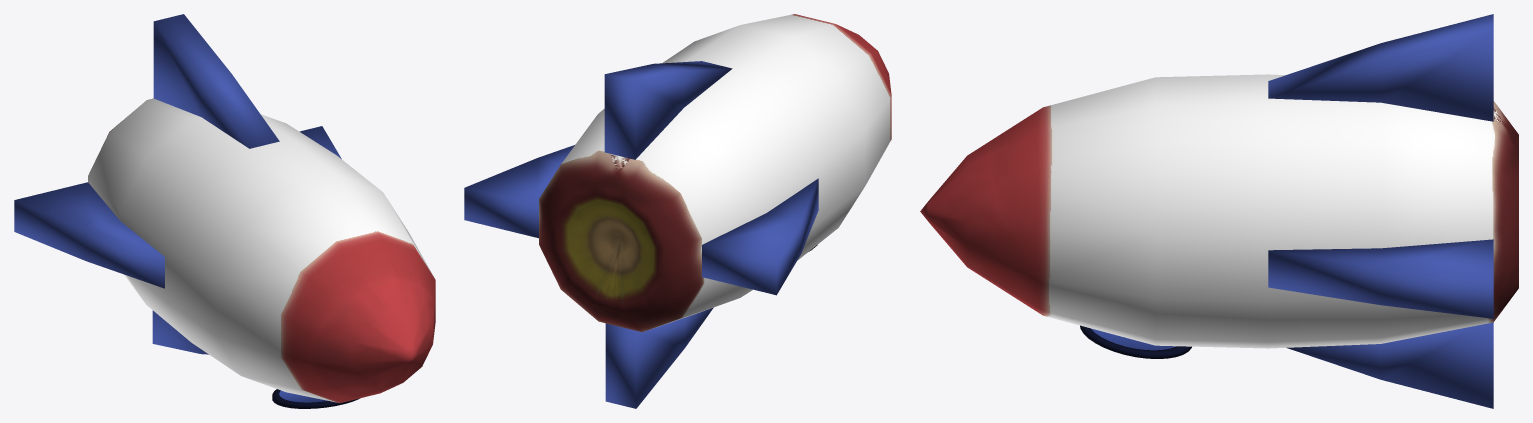
Rendered from spaceship.gltf.
The picture shows the model from 3 angles, left to right: view 1: azimuth 30°, elevation 25°; view 2: azimuth 150°, elevation 25°; view 3: azimuth 270°, elevation 25°; orthographic projection. The views are drawn at different scales.
Visible parts, largest first — view 1: body, wing, Circle; view 2: body, wing; view 3: body, wing, Circle.
Boxes of the visible parts, bbox=[...] form: body: bbox=[88, 98, 435, 402]; wing: bbox=[14, 14, 341, 354]; Circle: bbox=[272, 389, 359, 408]; body: bbox=[539, 14, 891, 332]; wing: bbox=[464, 61, 818, 408]; body: bbox=[920, 74, 1518, 348]; wing: bbox=[1268, 14, 1493, 408]; Circle: bbox=[1080, 325, 1191, 358].
Bounding box in the file's own units: 7.03 × 7.03 × 10.09.
3 materials, 3 textured.
